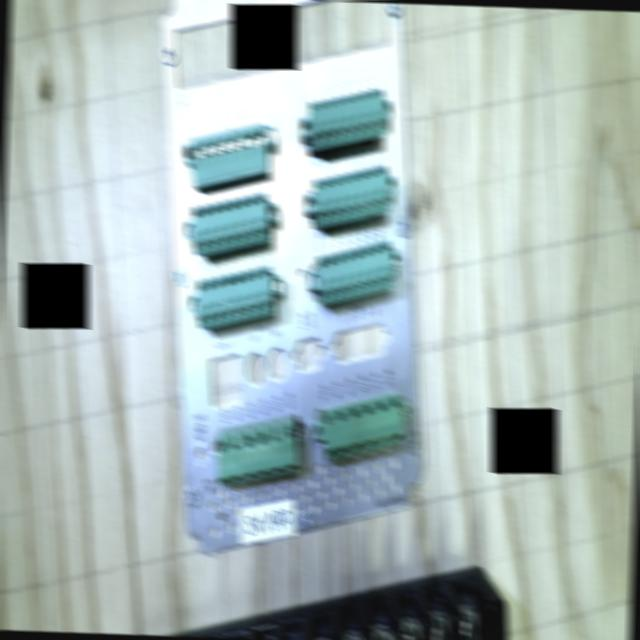Terminal_1: (313, 392, 411, 460), (208, 421, 305, 486)
Terminal_2: (308, 239, 401, 306), (184, 190, 278, 256), (189, 264, 282, 329), (305, 163, 397, 228), (300, 87, 392, 151)
